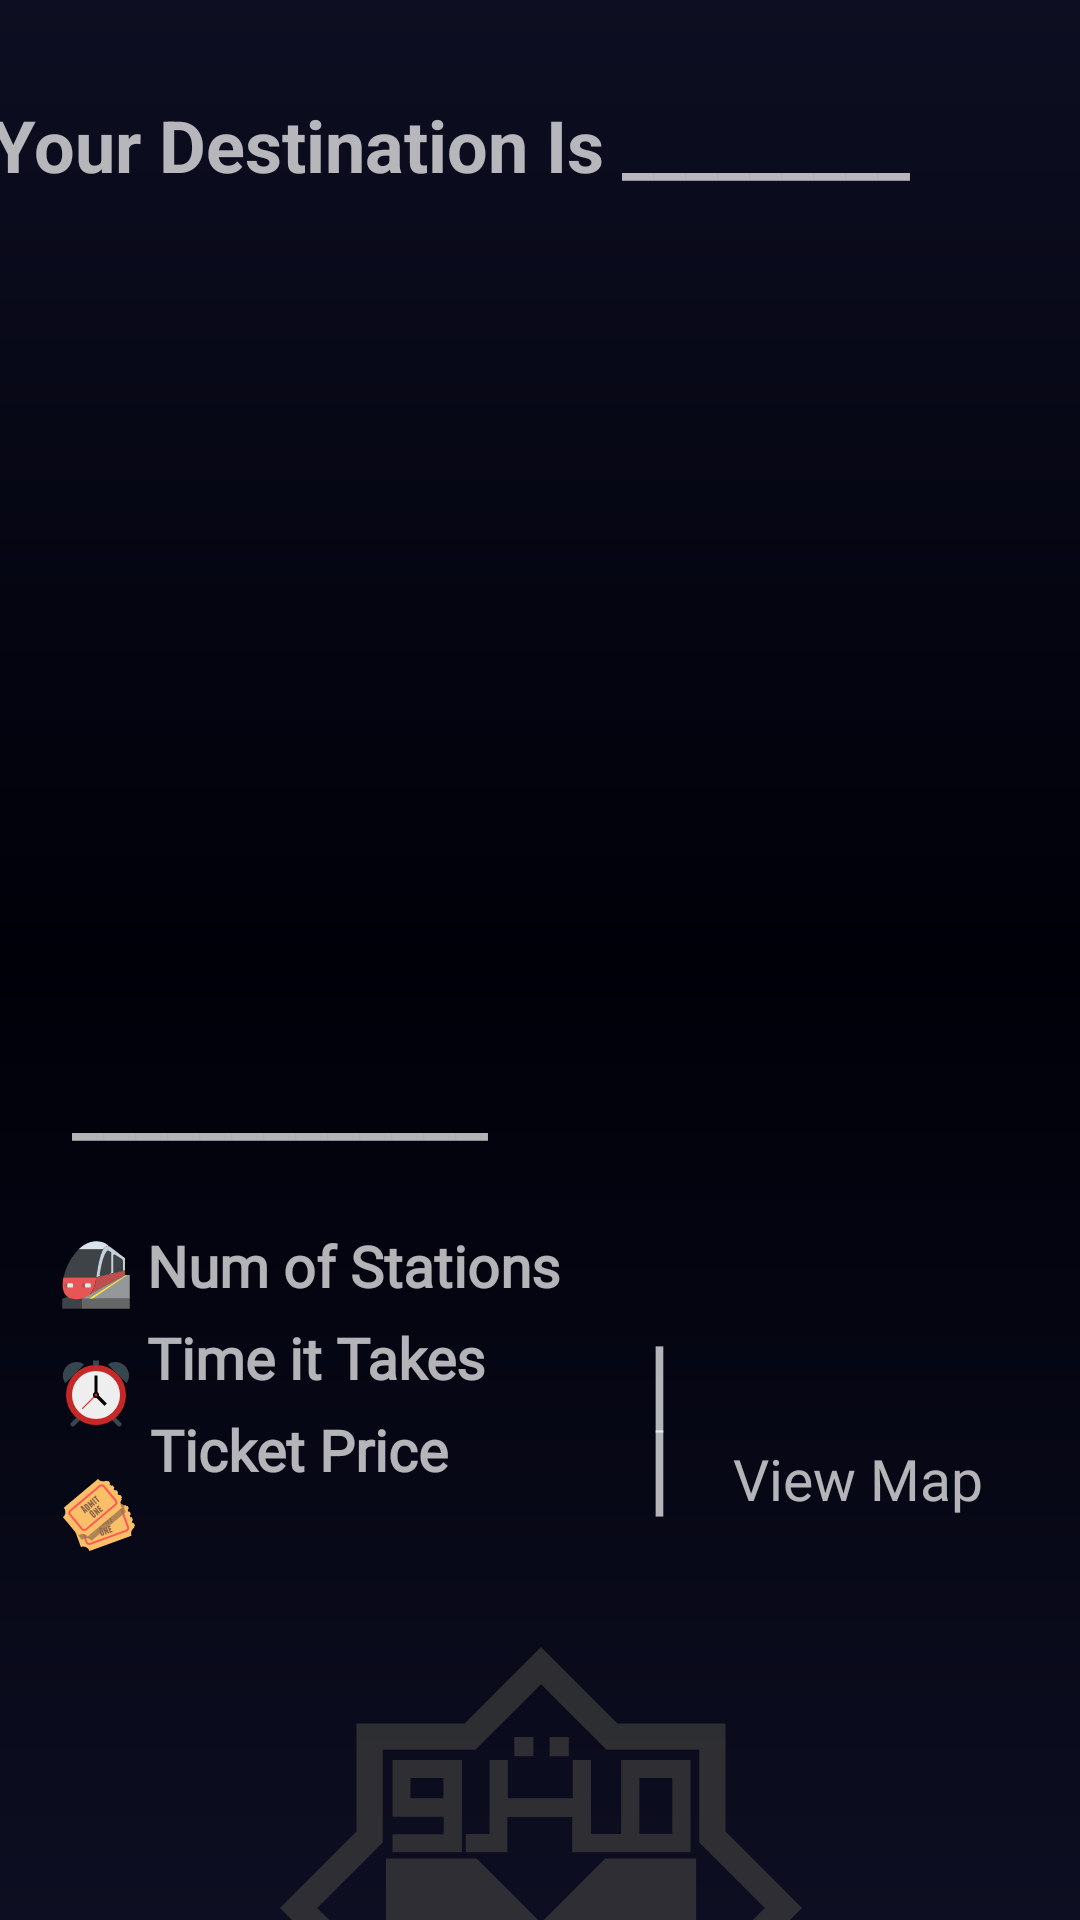

Where icons sit on this 1080×1920 app screen, as (x1, y1, x2, y2):
admission tickets: (63, 1479, 135, 1551)
alarm clock: (63, 1360, 129, 1427)
